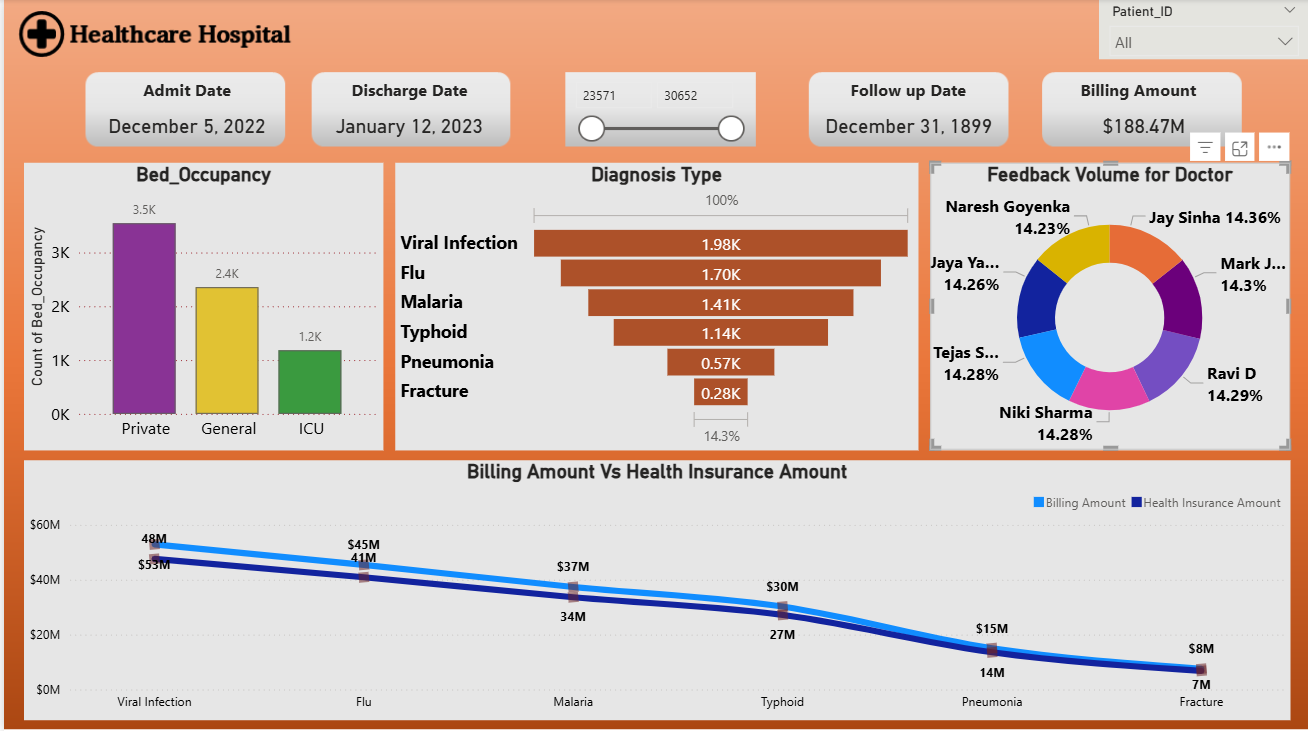

What the dashboard file says about the page in this screenshot:
{"tool":"powerbi","page":{"name":"Page 1","canvas":[1280,720],"ordinal":0},"visuals":[{"type":"slicer","fields":{"Values":["Sheet1.Patient_ID"]},"box":[1074.4,0,205.8,59],"z":0},{"type":"card","fields":{"Values":["Min(Sheet1.Admit_Date)"]},"box":[93.3,108.4,172.9,34.3],"z":1000},{"type":"textbox","box":[93.3,72.7,172.9,39.8],"z":2000},{"type":"textbox","box":[311.5,72.7,172.9,39.8],"z":3000},{"type":"card","fields":{"Values":["Min(Sheet1.Discharge_Date)"]},"box":[311.5,108.4,172.9,34.3],"z":4000},{"type":"textbox","box":[801.4,72.7,172.9,39.8],"z":5000},{"type":"textbox","box":[1026.4,72.7,172.9,39.8],"z":6000},{"type":"card","fields":{"Values":["Min(Sheet1.Followup Date)"]},"box":[795.9,108.4,183.9,34.3],"z":7000},{"type":"card","fields":{"Values":["Sum(Sheet1.Billing Amount)"]},"box":[1026.4,108.4,183.9,34.3],"z":8000},{"type":"slicer","fields":{"Values":["Sheet1.Patient_ID"]},"box":[548.9,71.4,188,75.5],"z":9000},{"type":"columnChart","title":"Bed_Occupancy","fields":{"Category":["Sheet1.Bed_Occupancy"],"Y":["CountNonNull(Sheet1.Bed_Occupancy)"]},"box":[19.2,160.5,352.7,282.7],"z":10000},{"type":"donutChart","title":"Feedback Volume for Doctor","fields":{"Category":["Sheet1.Doctor"],"Y":["CountNonNull(Sheet1.Doctor)"]},"box":[909.8,160.5,352.7,282.7],"z":11000},{"type":"funnel","title":"Diagnosis Type","fields":{"Category":["Sheet1.Diagnosis"],"Y":["CountNonNull(Sheet1.Diagnosis)"]},"box":[384.2,160.5,513.2,282.7],"z":12000},{"type":"lineChart","title":"Billing Amount Vs Health Insurance Amount","fields":{"Y":["Sum(Sheet1.Billing Amount)","Sum(Sheet1.Health Insurance Amount)"],"Category":["Sheet1.Diagnosis"]},"box":[19.2,452.8,1243.2,255.2],"z":13000}]}

Visuals, with their boxes in screenshot pixels (x1, y1, x2, y2), scaled from the page's 1280x720 canvas onto the 1308x731 screenshot:
slicer - Sheet1.Patient_ID: {"left": 1098, "top": 0, "right": 1307, "bottom": 60}
card - Min(Sheet1.Admit_Date): {"left": 95, "top": 110, "right": 272, "bottom": 145}
textbox: {"left": 95, "top": 74, "right": 272, "bottom": 114}
textbox: {"left": 318, "top": 74, "right": 495, "bottom": 114}
card - Min(Sheet1.Discharge_Date): {"left": 318, "top": 110, "right": 495, "bottom": 145}
textbox: {"left": 819, "top": 74, "right": 996, "bottom": 114}
textbox: {"left": 1049, "top": 74, "right": 1226, "bottom": 114}
card - Min(Sheet1.Followup Date): {"left": 813, "top": 110, "right": 1001, "bottom": 145}
card - Sum(Sheet1.Billing Amount): {"left": 1049, "top": 110, "right": 1237, "bottom": 145}
slicer - Sheet1.Patient_ID: {"left": 561, "top": 72, "right": 753, "bottom": 149}
"Bed_Occupancy" columnChart: {"left": 20, "top": 163, "right": 380, "bottom": 450}
"Feedback Volume for Doctor" donutChart: {"left": 930, "top": 163, "right": 1290, "bottom": 450}
"Diagnosis Type" funnel: {"left": 393, "top": 163, "right": 917, "bottom": 450}
"Billing Amount Vs Health Insurance Amount" lineChart: {"left": 20, "top": 460, "right": 1290, "bottom": 719}
